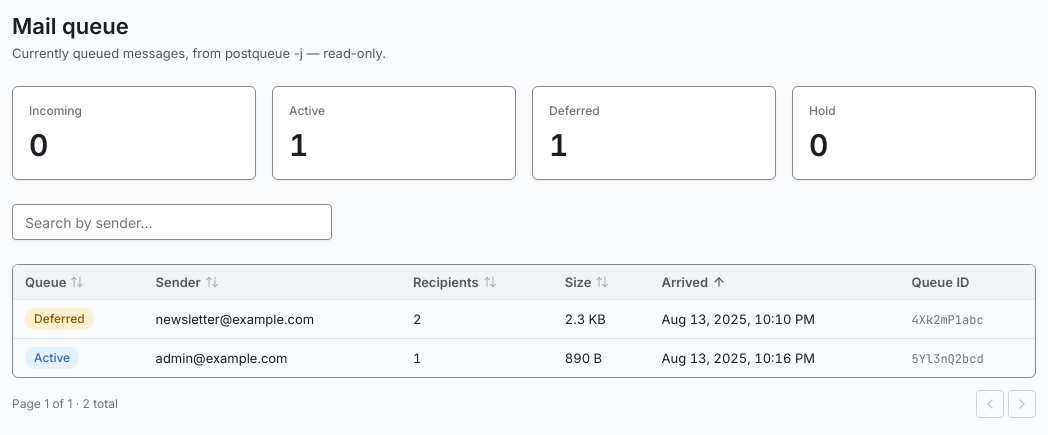
Test: QueuePage — read-only, real data only › filters by sender through the real search box
This screenshot has width=1048, height=435.
Expected: the text "newsletter@example.com" is shown, [144, 300, 401, 338]
In the field named "search queue by sender": (172, 222) [12, 204, 332, 240], type "admin"
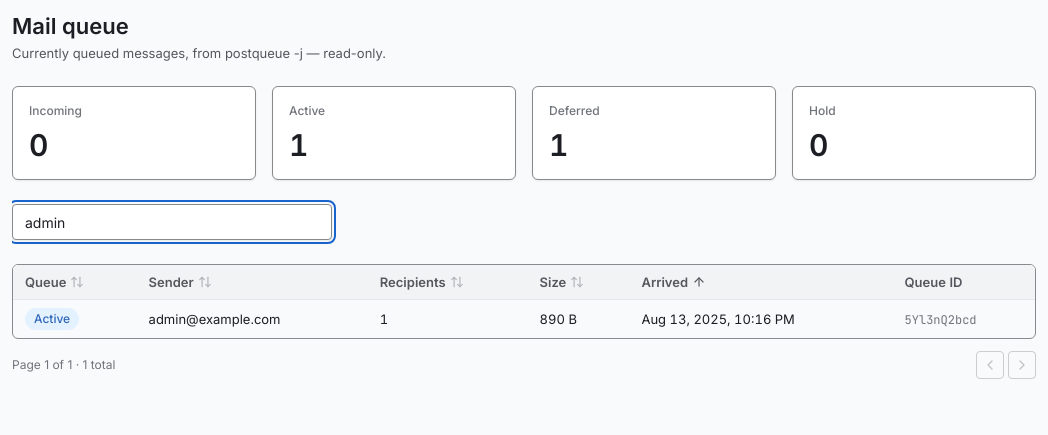
Expected: the text "admin@example.com" is shown, [137, 300, 368, 338]
Expected: the text "newsletter@example.com" is gone
